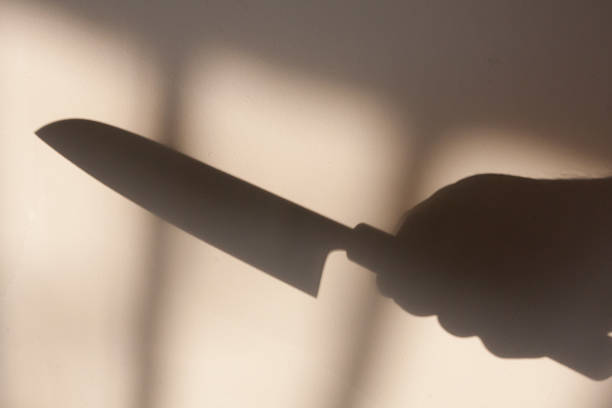knife: (31, 116, 396, 300)
